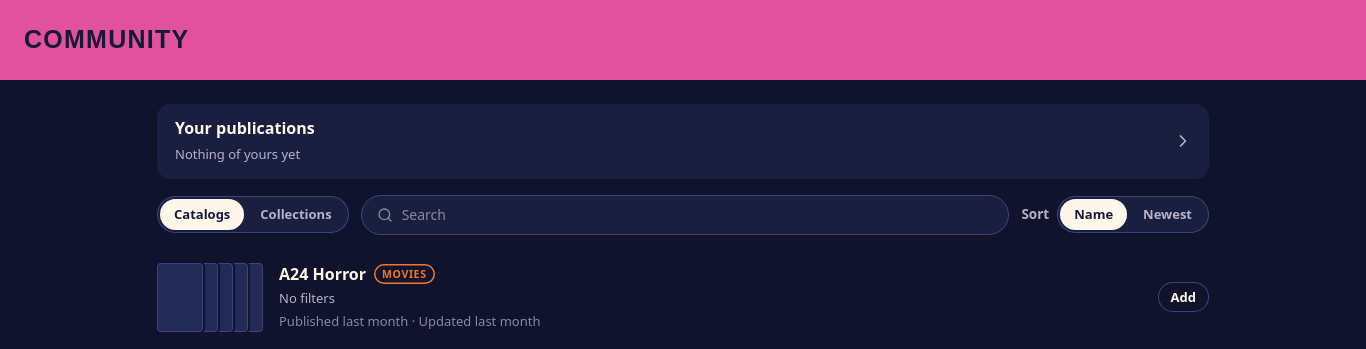
Test case: CommunityView › says when nothing is published, and when nothing matches
Check: the text "A24 Horror" is shown, box x1=279 y1=264 x2=366 y2=285
Click the button "Collections" at (296,215), box x1=246 y1=199 x2=346 y2=230
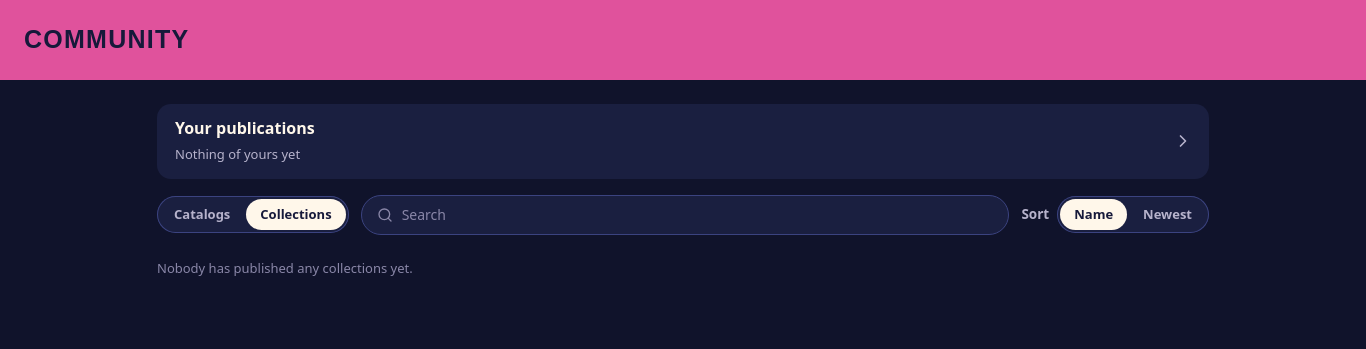
Check: the text "Nobody has published any collections yet." is shown, box x1=157 y1=259 x2=413 y2=277
Click the button "Catalogs" at (202,215), box x1=160 y1=199 x2=244 y2=230
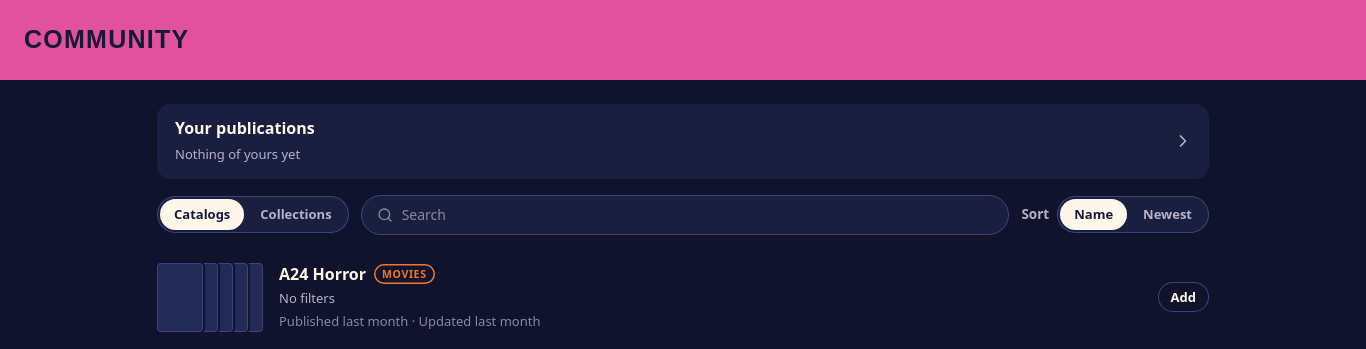
Type "nothing like it" into the search field named "Search Community" at (685,215), box x1=361 y1=195 x2=1009 y2=235
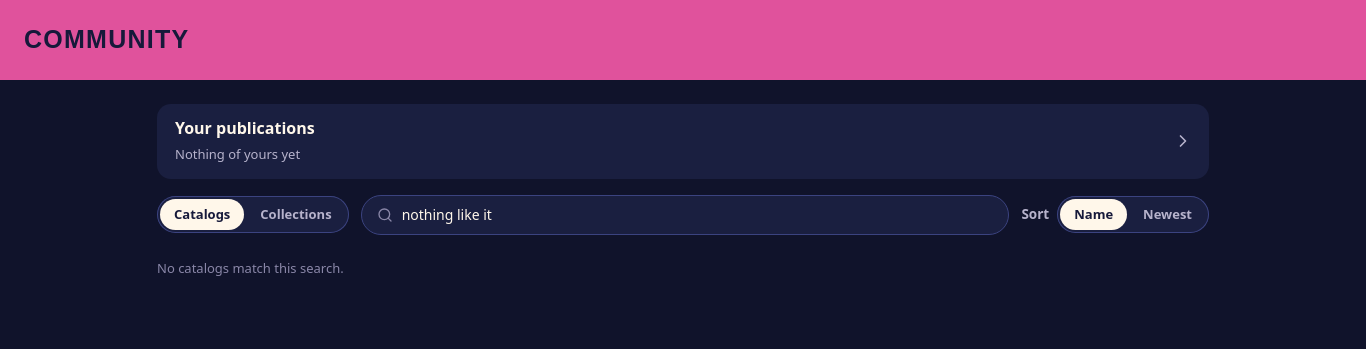
Check: the text "No catalogs match this search." is shown, box x1=157 y1=259 x2=344 y2=277
